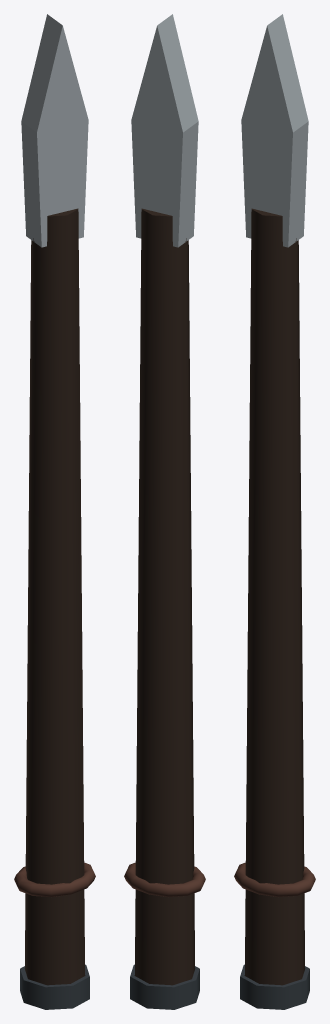
Rendered from pike.glb.
3 renders of one model, left to right at view 1: azimuth 30°, elevation 25°; view 2: azimuth 150°, elevation 25°; view 3: azimuth 330°, elevation 25°, orthographic.
Parts seen in each view (by area): view 1: pike-shaft, pike-head, pike-butt-cap, pike-grip-wrap; view 2: pike-shaft, pike-head, pike-butt-cap, pike-grip-wrap; view 3: pike-shaft, pike-head, pike-butt-cap, pike-grip-wrap.
Part boxes in pixels (bbox=[...]): pike-shaft: bbox=[24, 208, 85, 985]; pike-head: bbox=[21, 14, 88, 247]; pike-butt-cap: bbox=[20, 964, 89, 1009]; pike-grip-wrap: bbox=[14, 862, 95, 896]; pike-shaft: bbox=[134, 208, 195, 985]; pike-head: bbox=[131, 14, 198, 247]; pike-butt-cap: bbox=[130, 964, 199, 1009]; pike-grip-wrap: bbox=[124, 862, 205, 896]; pike-shaft: bbox=[244, 208, 305, 985]; pike-head: bbox=[241, 14, 308, 247]; pike-butt-cap: bbox=[240, 964, 309, 1009]; pike-grip-wrap: bbox=[234, 862, 315, 896].
Bounding box in the file's own units: 0.124 × 1.55 × 0.104.
